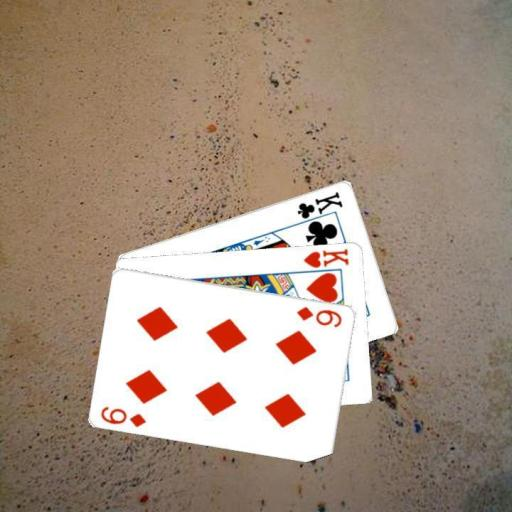card-corner: (293, 188, 344, 227), (294, 303, 344, 328), (98, 403, 148, 428), (300, 245, 350, 269)
